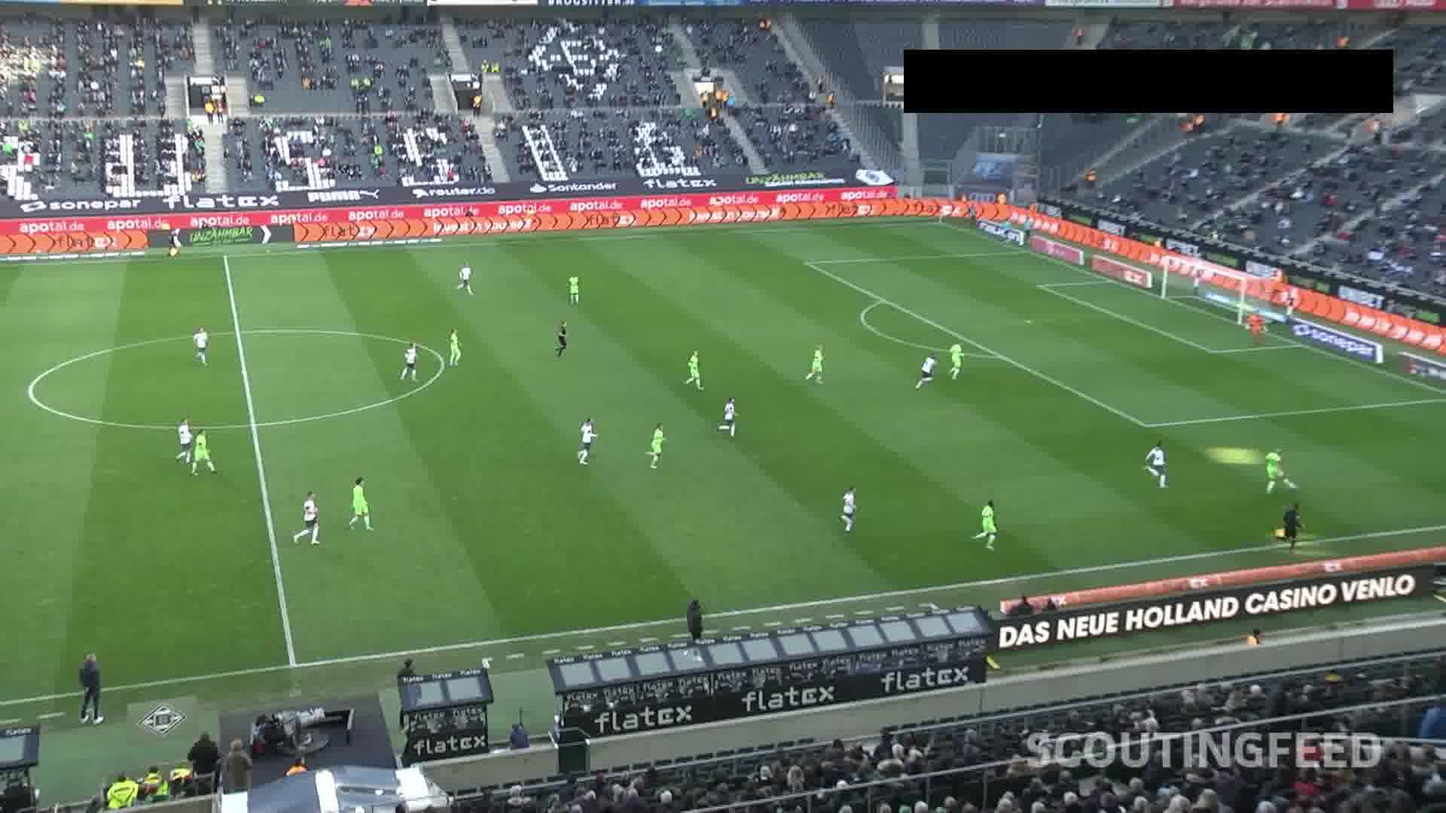ball: (1289, 473, 1302, 491)
coach_staff: (73, 655, 108, 720), (679, 588, 704, 642)
goalkeeper: (1241, 310, 1264, 340)
player: (1255, 444, 1294, 494), (290, 489, 323, 547), (973, 494, 1007, 548), (354, 468, 377, 538), (1143, 432, 1171, 489), (570, 414, 597, 467), (191, 423, 217, 473), (437, 324, 469, 364), (835, 481, 860, 529), (680, 346, 704, 391), (944, 343, 972, 379), (717, 396, 739, 437), (399, 336, 418, 381), (810, 339, 827, 389), (172, 414, 191, 458), (191, 324, 210, 363), (649, 419, 665, 465), (916, 348, 933, 388), (564, 263, 580, 299), (456, 261, 473, 292)
referee: (1272, 503, 1304, 550), (549, 316, 572, 356), (167, 230, 182, 258)
